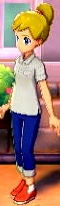woman_no_egg: (1, 3, 60, 206)
